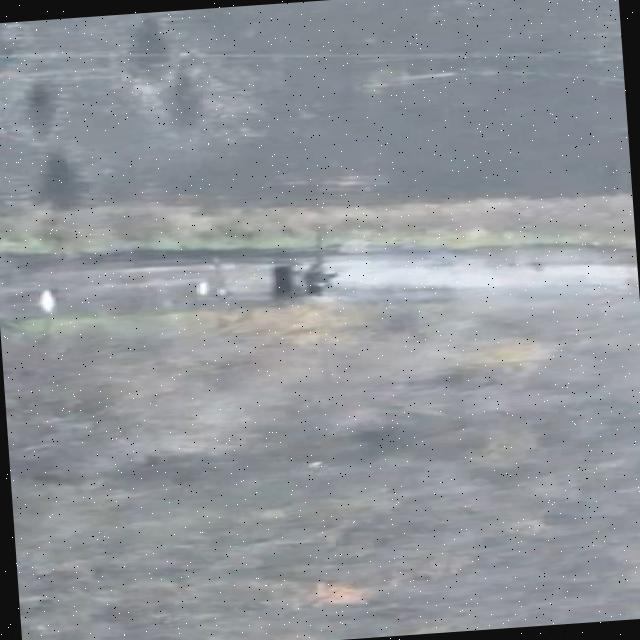MBT: (267, 228, 342, 301)
